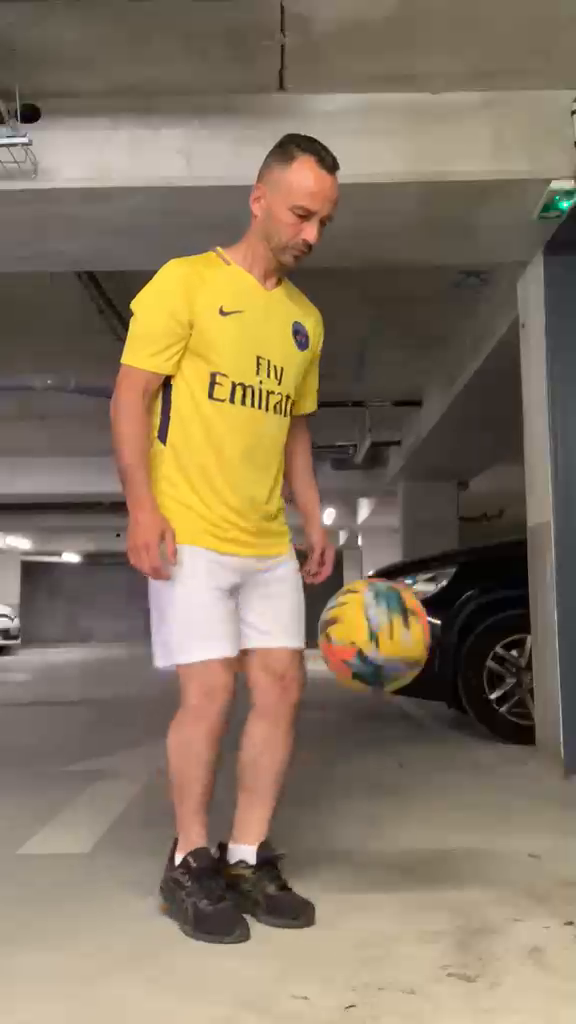ball: (316, 577, 432, 693)
